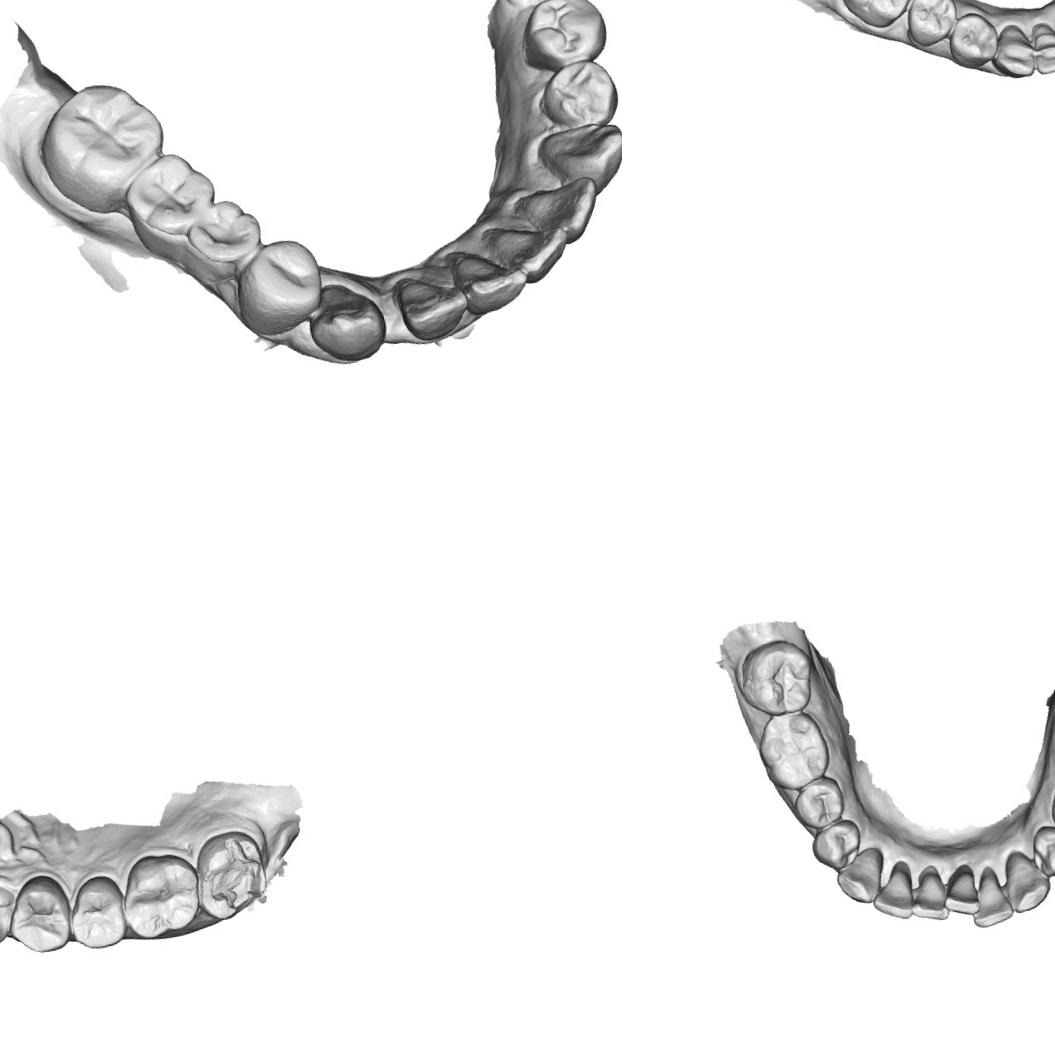canine: (305, 278, 390, 366), (537, 121, 622, 196), (831, 844, 890, 910), (1002, 848, 1054, 916), (987, 19, 1040, 82)
implant: (501, 0, 553, 9)
incisor: (487, 210, 567, 286), (397, 267, 472, 341), (460, 248, 534, 317), (529, 174, 597, 238), (966, 861, 1016, 930), (868, 860, 916, 924), (939, 862, 983, 920), (908, 866, 950, 926), (1026, 11, 1055, 78)
inlay: (196, 834, 268, 916)
molar: (38, 76, 170, 200), (120, 143, 221, 244), (114, 846, 208, 944), (734, 634, 820, 720), (753, 707, 835, 794), (833, 0, 926, 34)
premolar: (236, 236, 324, 332), (0, 868, 77, 959), (184, 194, 266, 278), (540, 53, 621, 132), (520, 0, 609, 69), (64, 870, 131, 956), (944, 6, 1003, 72), (790, 775, 848, 832), (899, 0, 961, 53), (808, 816, 865, 873), (1029, 821, 1055, 879)
